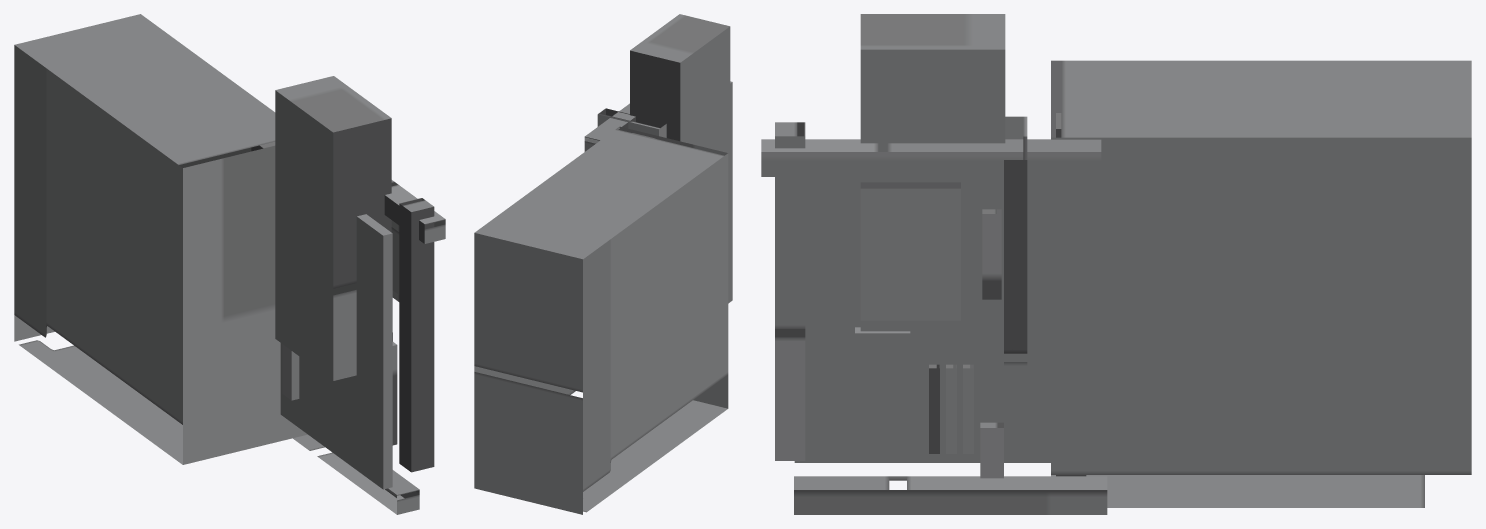
3 views of the same model, side by side, from view 1: azimuth 30°, elevation 25°; view 2: azimuth 150°, elevation 25°; view 3: azimuth 270°, elevation 25° (orthographic). The views are drawn at different scales.
Bounding box in the file's own units: 0.3698 × 0.7938 × 1.1.
